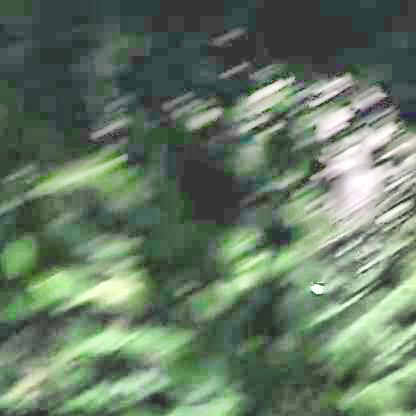golfball: (307, 283, 320, 293)
